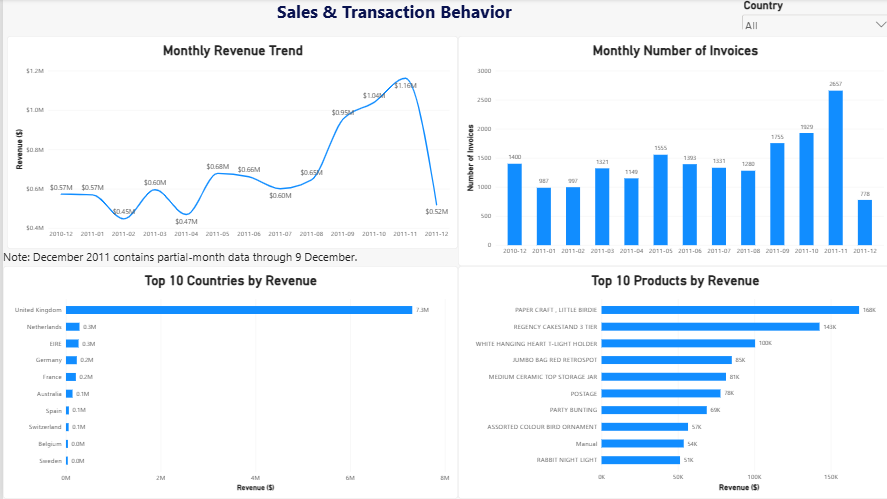

The dashboard page shown, as its layout file describes it:
{"tool":"powerbi","page":{"name":"Sales Behaviour","canvas":[1920,1080],"ordinal":3},"visuals":[{"type":"lineChart","title":"Monthly Revenue Trend","fields":{"Category":["Calender.Year Month"],"Y":["Clean Transactions.Total Revenue"]},"box":[8.6,79.9,974.2,460.1],"z":0},{"type":"columnChart","title":"Monthly Number of Invoices ","fields":{"Category":["Calender.Year Month"],"Y":["Clean Transactions.Total Invoices"]},"box":[982.8,79.9,937.4,496.8],"z":1000},{"type":"barChart","title":"Top 10 Countries by  Revenue","fields":{"Category":["Clean Transactions.country"],"Y":["Clean Transactions.Total Revenue"]},"box":[0,576.7,982.8,503.3],"z":2000},{"type":"barChart","title":"Top 10 Products by Revenue","fields":{"Category":["Clean Transactions.description"],"Y":["Clean Transactions.Total Revenue"]},"box":[982.8,576.7,937.4,503.3],"z":3000},{"type":"textbox","box":[99.4,0,1492.6,79.9],"z":4000},{"type":"textbox","box":[0,540,982.8,36.7],"z":5000},{"type":"slicer","fields":{"Values":["RFM Customers.home_country"]},"box":[1591.9,0,328.3,64.8],"z":6000}]}

Visuals, with their boxes in screenshot pixels (x1, y1, x2, y2), scaled from the page's 1920x1080 canvas onto the 887x499 screenshot:
"Monthly Revenue Trend" lineChart: <bbox>4, 37, 454, 250</bbox>
"Monthly Number of Invoices " columnChart: <bbox>454, 37, 886, 266</bbox>
"Top 10 Countries by  Revenue" barChart: <bbox>0, 266, 454, 498</bbox>
"Top 10 Products by Revenue" barChart: <bbox>454, 266, 886, 498</bbox>
textbox: <bbox>46, 0, 735, 37</bbox>
textbox: <bbox>0, 250, 454, 266</bbox>
slicer - RFM Customers.home_country: <bbox>735, 0, 886, 30</bbox>
